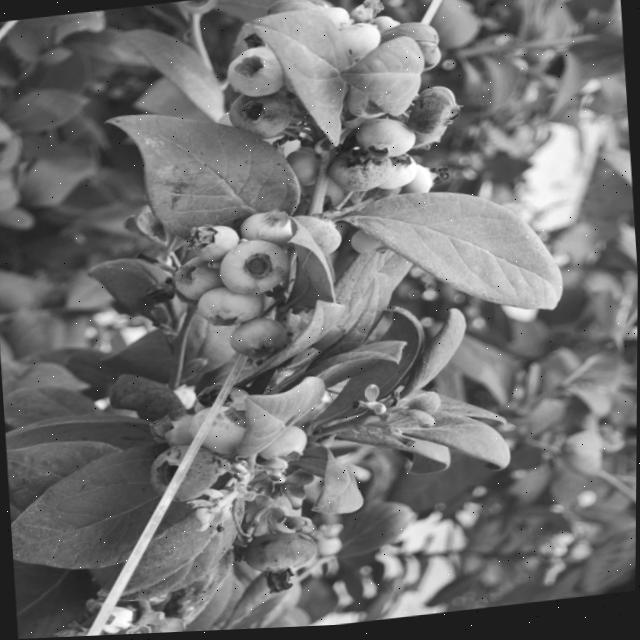RipeBlueBerry: (145, 443, 221, 509), (241, 529, 320, 581), (407, 86, 464, 144)
Semi-RipeBlueBerry: (223, 88, 296, 145), (325, 148, 396, 200)
UnripeBlueBerry: (216, 237, 291, 301), (221, 44, 290, 102), (350, 116, 417, 167)
